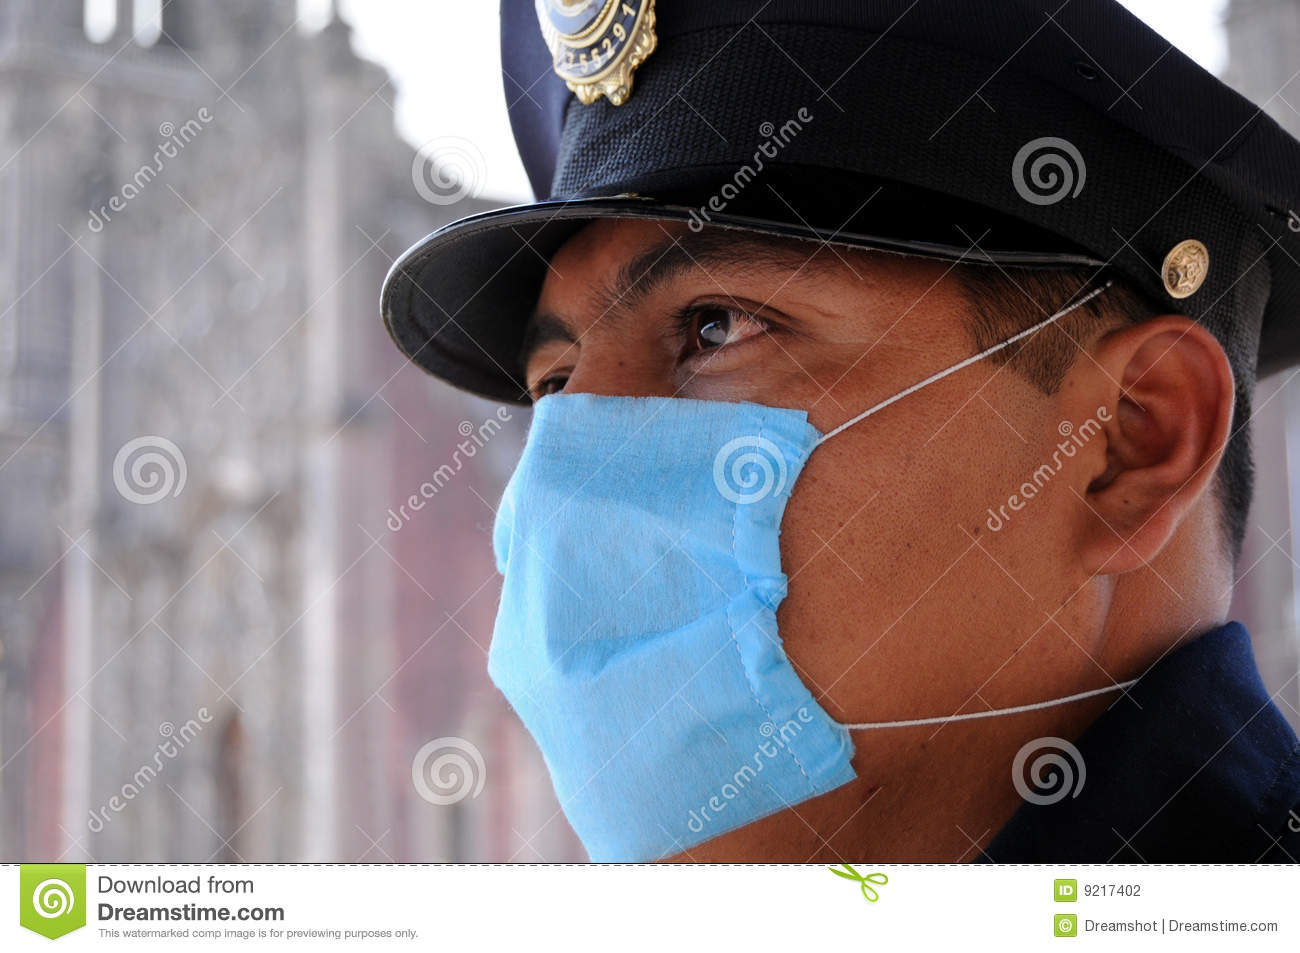mask: (490, 392, 857, 866)
